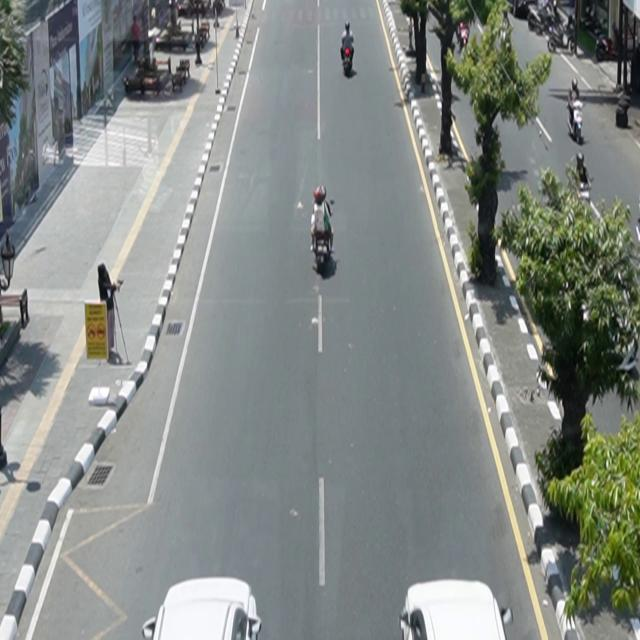car: (142, 577, 263, 640), (400, 580, 513, 640)
